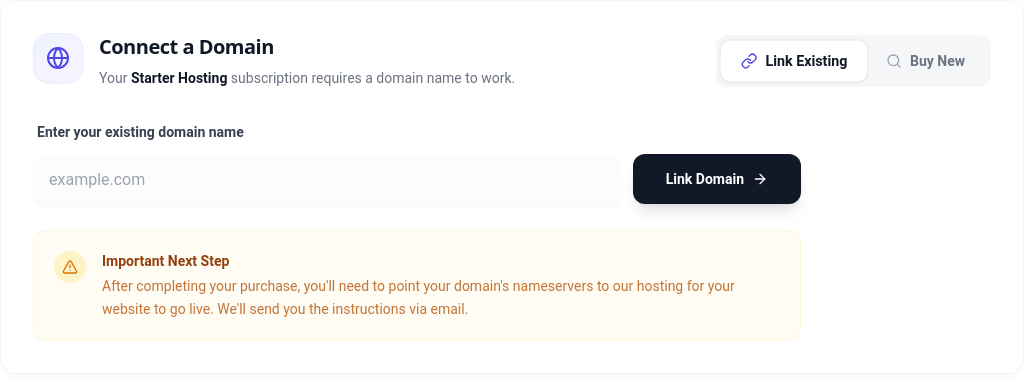
<DomainSetup> › Buy New tab › auto-appends .com when the search has no dot and renders the available panel
Click the button "Buy New".
click(926, 61)  # box [866,41,985,81]
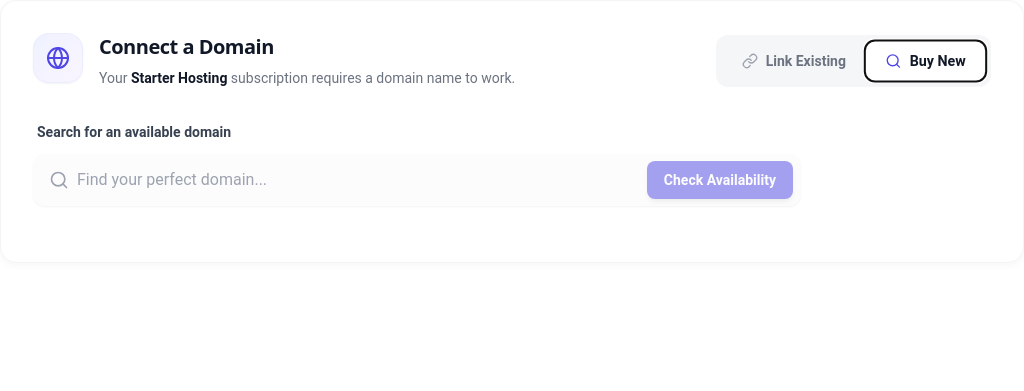
Type "myproject" into the field with placeholder "Find your perfect domain...".
click(417, 180); type("myproject")  # box [33,154,801,206]
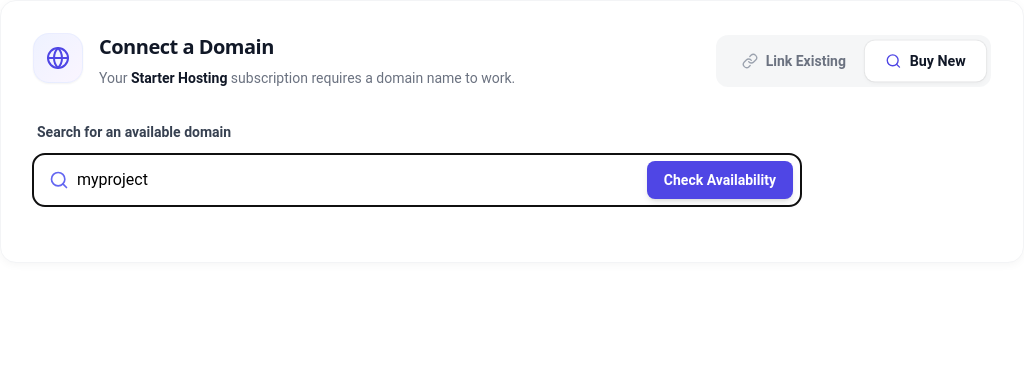
Click the button "Check Availability".
click(720, 180)  # box [647,161,793,199]
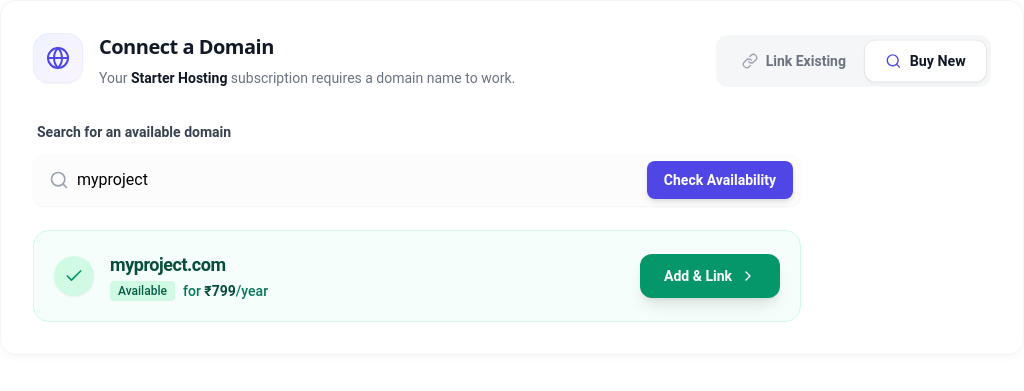
Expected: the text "myproject.com" is shown, [110,254,226,275]
Expected: the text "Available" is shown, [110,281,175,301]
Expected: the button "Add & Link" is shown, [640,254,780,298]
